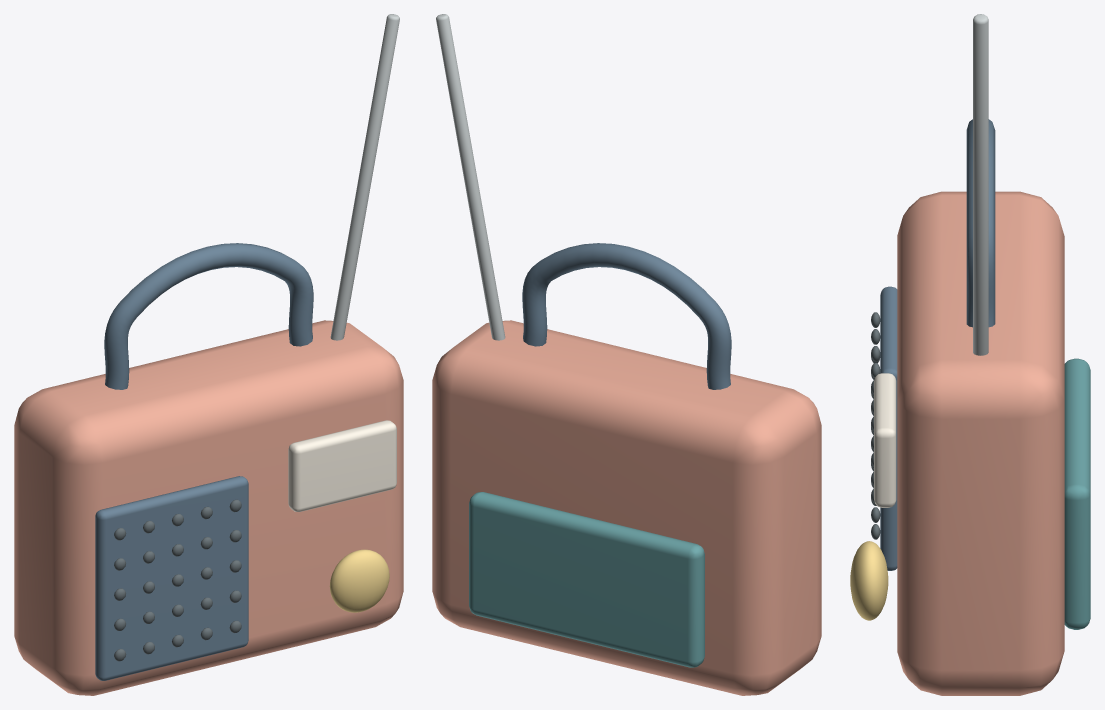
The model's file is Radio.fbx.
3 renders of one model, left to right at view 1: azimuth 30°, elevation 25°; view 2: azimuth 150°, elevation 25°; view 3: azimuth 270°, elevation 25°, orthographic. The views are drawn at different scales.
Visible parts, largest first — view 1: Body, Speaker, Handle, Display, Antenna, Dial; view 2: Body, BatteryDoor, Handle, Antenna; view 3: Body, BatteryDoor, Antenna, Handle, Display, Speaker, Dial.
Part boxes in pixels (<box>): Body: <box>14,320,403,695</box>; Speaker: <box>95,476,248,680</box>; Handle: <box>104,243,313,389</box>; Display: <box>288,420,396,512</box>; Antenna: <box>330,14,399,340</box>; Dial: <box>329,549,389,612</box>; Body: <box>432,320,821,695</box>; BatteryDoor: <box>469,492,704,667</box>; Handle: <box>522,243,731,389</box>; Antenna: <box>436,14,505,340</box>; Body: <box>897,191,1064,695</box>; BatteryDoor: <box>1064,358,1090,629</box>; Antenna: <box>973,14,988,355</box>; Handle: <box>966,119,995,327</box>; Display: <box>874,373,896,507</box>; Speaker: <box>880,286,897,570</box>; Dial: <box>850,541,888,620</box>.
Bounding box in the file's own units: 31.45 × 48.55 × 15.1.
